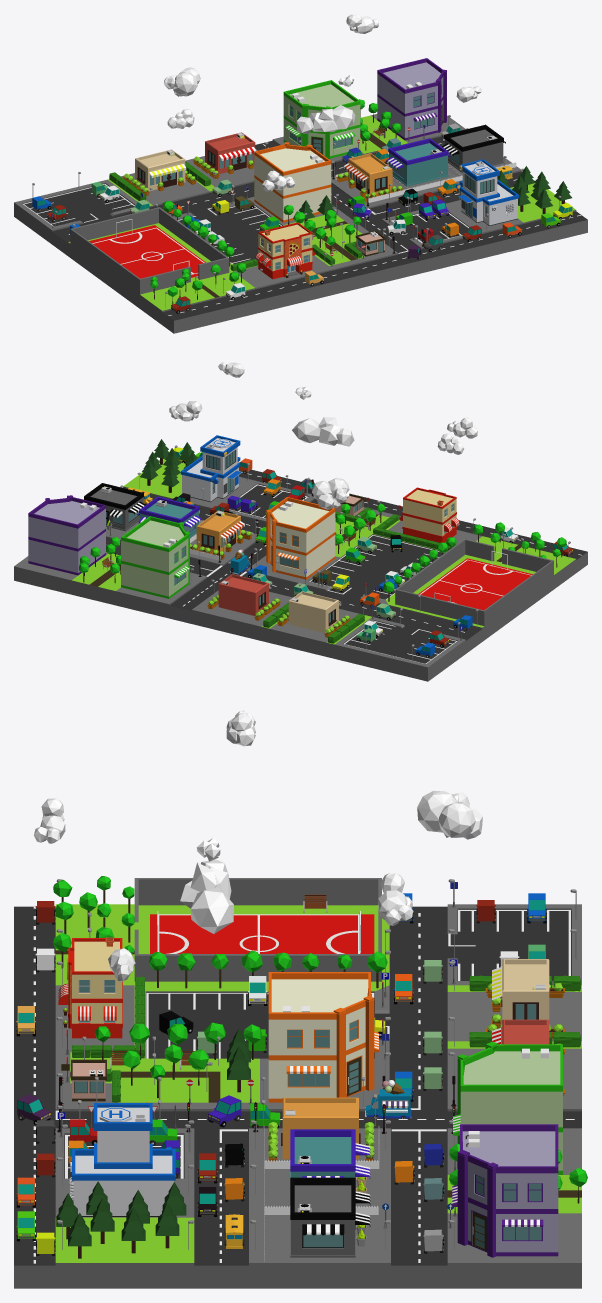
3 views of the same model, one above another, from view 1: azimuth 30°, elevation 25°; view 2: azimuth 150°, elevation 25°; view 3: azimuth 270°, elevation 25° (orthographic). The views are drawn at different scales.
Parts seen in each view (by area): view 1: città, macchina.020, Cube, tenda.001, tenda.003, Sphere, tenda.002, police station, pizzeria, base casa, base casa.001, Icosphere.001 (+11 smaller); view 2: città, macchina.020, tenda.003, Cube, tenda.002, tenda.001, Sphere, police station, pizzeria, casa.001, Icosphere.001, casa.002 (+11 smaller); view 3: città, macchina.020, tenda.003, tenda.001, Cube, Sphere, tenda.002, police station, base casa.001, Cube.018, pizzeria, Icosphere.002 (+15 smaller).
Part boxes in pixels (box(x1,y1,x2,y2)): città: box(14, 114, 587, 333); macchina.020: box(32, 123, 572, 313); Cube: box(70, 207, 229, 294); tenda.001: box(254, 142, 331, 222); tenda.003: box(377, 58, 446, 140); Sphere: box(164, 14, 481, 192); tenda.002: box(283, 80, 360, 159); police station: box(455, 159, 519, 225); pizzeria: box(255, 222, 315, 279); base casa: box(386, 138, 450, 186); base casa.001: box(442, 124, 505, 172); Icosphere.001: box(123, 149, 196, 195); città: box(14, 457, 587, 681); macchina.020: box(172, 447, 572, 657); tenda.003: box(28, 495, 105, 575); Cube: box(395, 538, 553, 625); tenda.002: box(121, 516, 190, 598); tenda.001: box(266, 497, 335, 579); Sphere: box(169, 362, 477, 509); police station: box(180, 435, 241, 502); pizzeria: box(399, 487, 459, 542); casa.001: box(207, 574, 280, 620); Icosphere.001: box(277, 591, 350, 637); casa.002: box(190, 510, 252, 559); città: box(14, 904, 581, 1288); macchina.020: box(16, 893, 546, 1255); tenda.003: box(452, 1124, 558, 1257); tenda.001: box(268, 972, 378, 1102); Cube: box(134, 878, 381, 981); Sphere: box(34, 710, 482, 981); tenda.002: box(453, 1041, 562, 1174); police station: box(69, 1102, 175, 1216); base casa.001: box(290, 1177, 370, 1257); Cube.018: box(56, 1029, 250, 1258); pizzeria: box(58, 938, 122, 1038); Icosphere.002: box(33, 905, 574, 1263).
Bounding box in the file's own units: 12845 × 5073 × 8681.
